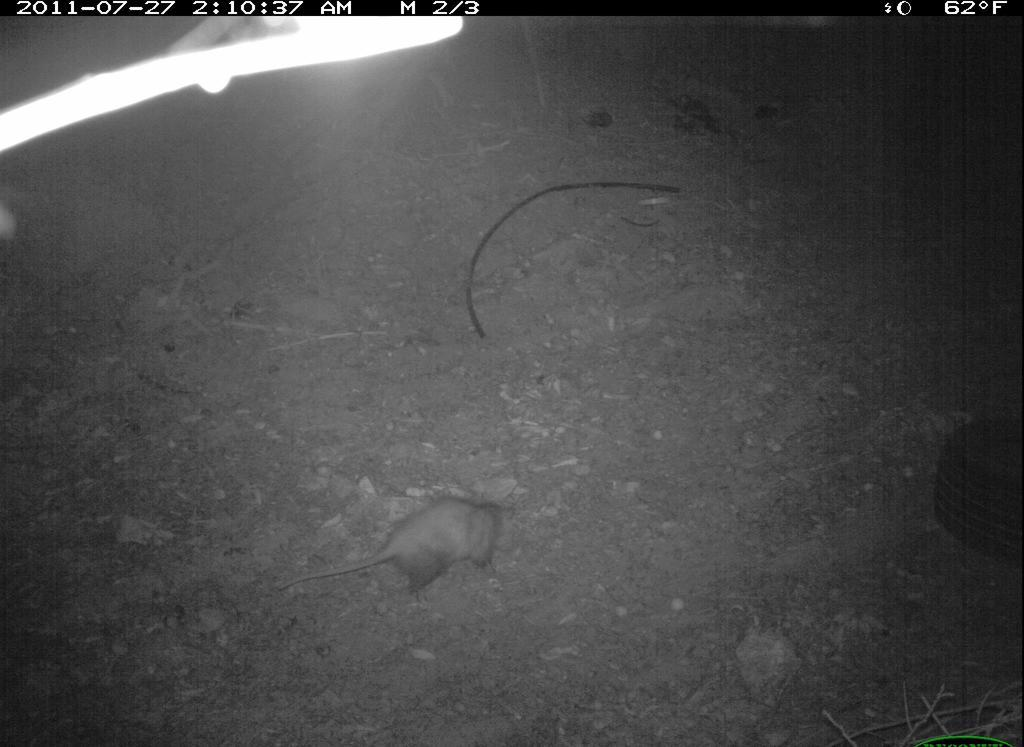opossum: (273, 479, 525, 607)
